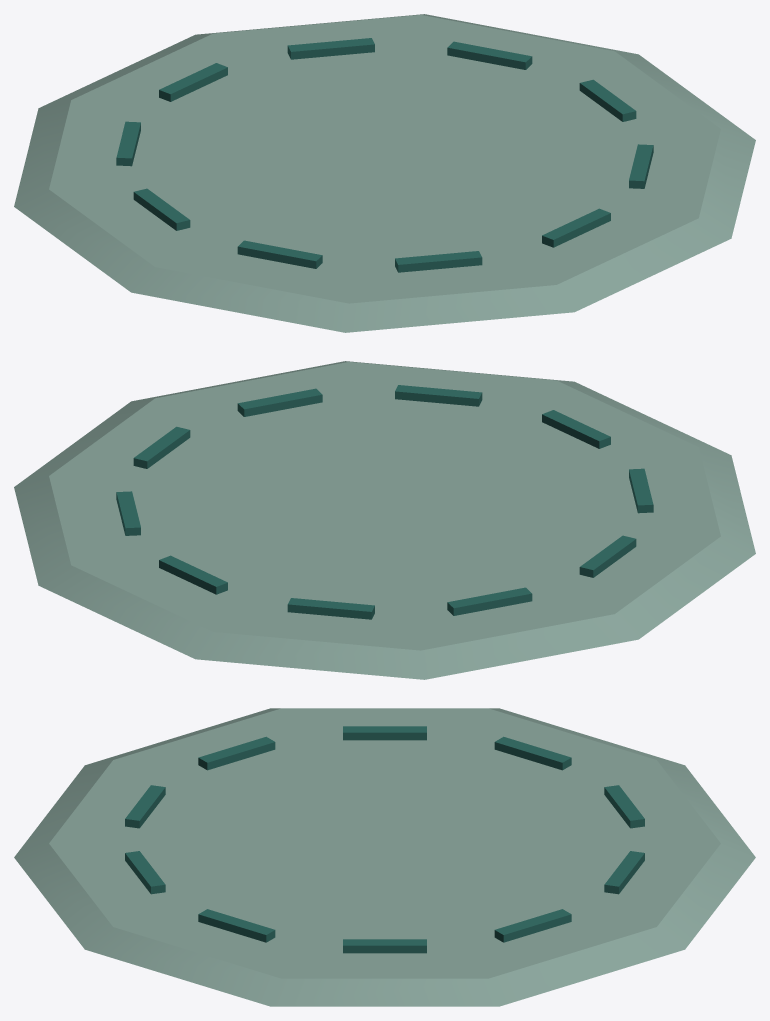
File: foundation.glb
3 renders of one model, top to bottom at view 1: azimuth 30°, elevation 25°; view 2: azimuth 150°, elevation 25°; view 3: azimuth 270°, elevation 25°, orthographic. The views are drawn at different scales.
Visible parts, largest first — view 1: foundation_inlay, foundation_rune_3, foundation_rune_8, foundation_rune_9, foundation_rune_4, foundation_rune_7, foundation_rune_2, foundation_rune_0, foundation_rune_5, foundation_rune_6, foundation_rune_1; view 2: foundation_inlay, foundation_rune_7, foundation_rune_2, foundation_rune_1, foundation_rune_6, foundation_rune_3, foundation_rune_8, foundation_rune_0, foundation_rune_5, foundation_rune_4, foundation_rune_9; view 3: foundation_inlay, foundation_rune_0, foundation_rune_5, foundation_rune_1, foundation_rune_9, foundation_rune_4, foundation_rune_6, foundation_rune_2, foundation_rune_8, foundation_rune_3, foundation_rune_7.
Part boxes in pixels (x1=…): foundation_inlay: x1=14, y1=14, x2=755, y2=332; foundation_rune_3: x1=395, y1=251, x2=482, y2=272; foundation_rune_8: x1=287, y1=38, x2=374, y2=59; foundation_rune_9: x1=447, y1=41, x2=532, y2=69; foundation_rune_4: x1=237, y1=240, x2=322, y2=268; foundation_rune_7: x1=159, y1=63, x2=227, y2=101; foundation_rune_2: x1=542, y1=208, x2=610, y2=247; foundation_rune_0: x1=579, y1=79, x2=636, y2=121; foundation_rune_5: x1=133, y1=188, x2=190, y2=230; foundation_rune_6: x1=116, y1=121, x2=140, y2=166; foundation_rune_1: x1=629, y1=144, x2=653, y2=188; foundation_inlay: x1=14, y1=361, x2=755, y2=679; foundation_rune_7: x1=287, y1=598, x2=374, y2=619; foundation_rune_2: x1=395, y1=385, x2=482, y2=406; foundation_rune_1: x1=237, y1=388, x2=322, y2=416; foundation_rune_6: x1=447, y1=587, x2=532, y2=615; foundation_rune_3: x1=542, y1=410, x2=610, y2=448; foundation_rune_8: x1=159, y1=555, x2=227, y2=594; foundation_rune_0: x1=133, y1=426, x2=190, y2=468; foundation_rune_5: x1=579, y1=535, x2=636, y2=577; foundation_rune_4: x1=629, y1=468, x2=653, y2=513; foundation_rune_9: x1=116, y1=491, x2=140, y2=535; foundation_inlay: x1=14, y1=708, x2=755, y2=1006; foundation_rune_0: x1=343, y1=939, x2=426, y2=953; foundation_rune_5: x1=343, y1=726, x2=426, y2=740; foundation_rune_1: x1=198, y1=909, x2=275, y2=942; foundation_rune_9: x1=494, y1=909, x2=571, y2=942; foundation_rune_4: x1=198, y1=736, x2=275, y2=770; foundation_rune_6: x1=494, y1=736, x2=571, y2=770; foundation_rune_2: x1=125, y1=851, x2=165, y2=894; foundation_rune_8: x1=604, y1=851, x2=644, y2=894; foundation_rune_3: x1=125, y1=785, x2=165, y2=828; foundation_rune_7: x1=604, y1=785, x2=644, y2=828.
Size of what is drawn, in the model's own units: 10.08 by 0.34 by 10.6.
